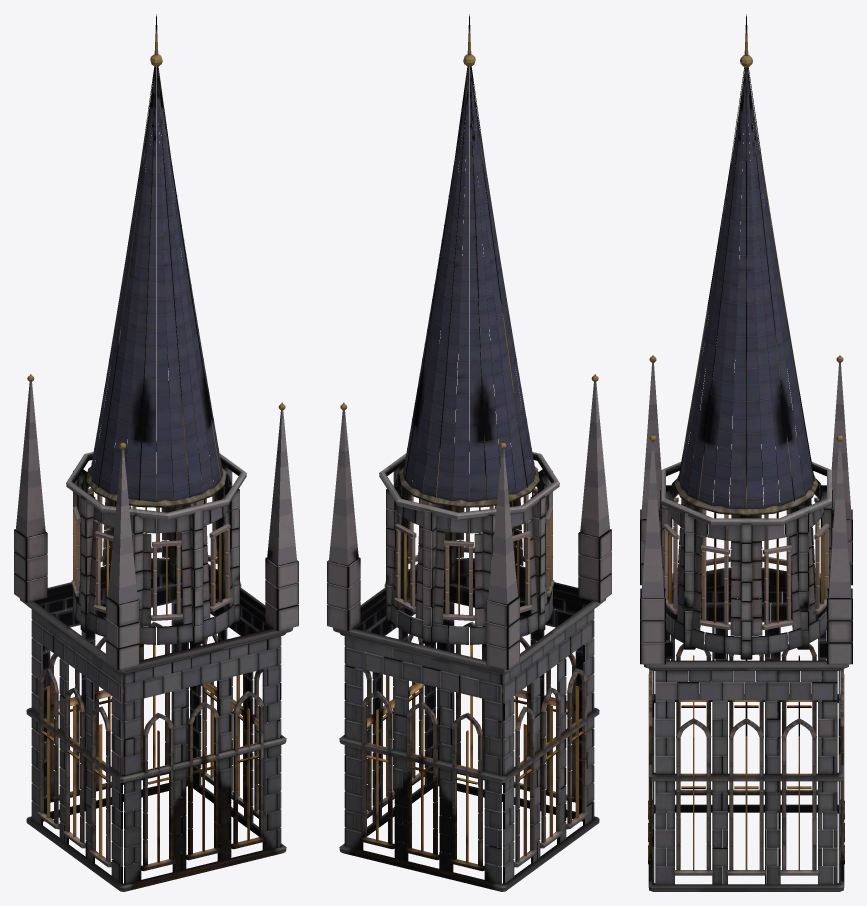
The model's file is expand_central_tower.glb.
3 views of the same model, side by side, from view 1: azimuth 30°, elevation 25°; view 2: azimuth 150°, elevation 25°; view 3: azimuth 270°, elevation 25° (orthographic).
Parts seen in each view (by area): view 1: expand_central_tower_GI; view 2: expand_central_tower_GI; view 3: expand_central_tower_GI.
Part boxes in pixels (x1,y1,x2,y2): expand_central_tower_GI: (14,14,298,891); expand_central_tower_GI: (327,14,611,891); expand_central_tower_GI: (640,14,852,891).
Bounding box in the file's own units: 10.48 × 45.47 × 10.48.
Materials: 1 (1 with a texture image).
